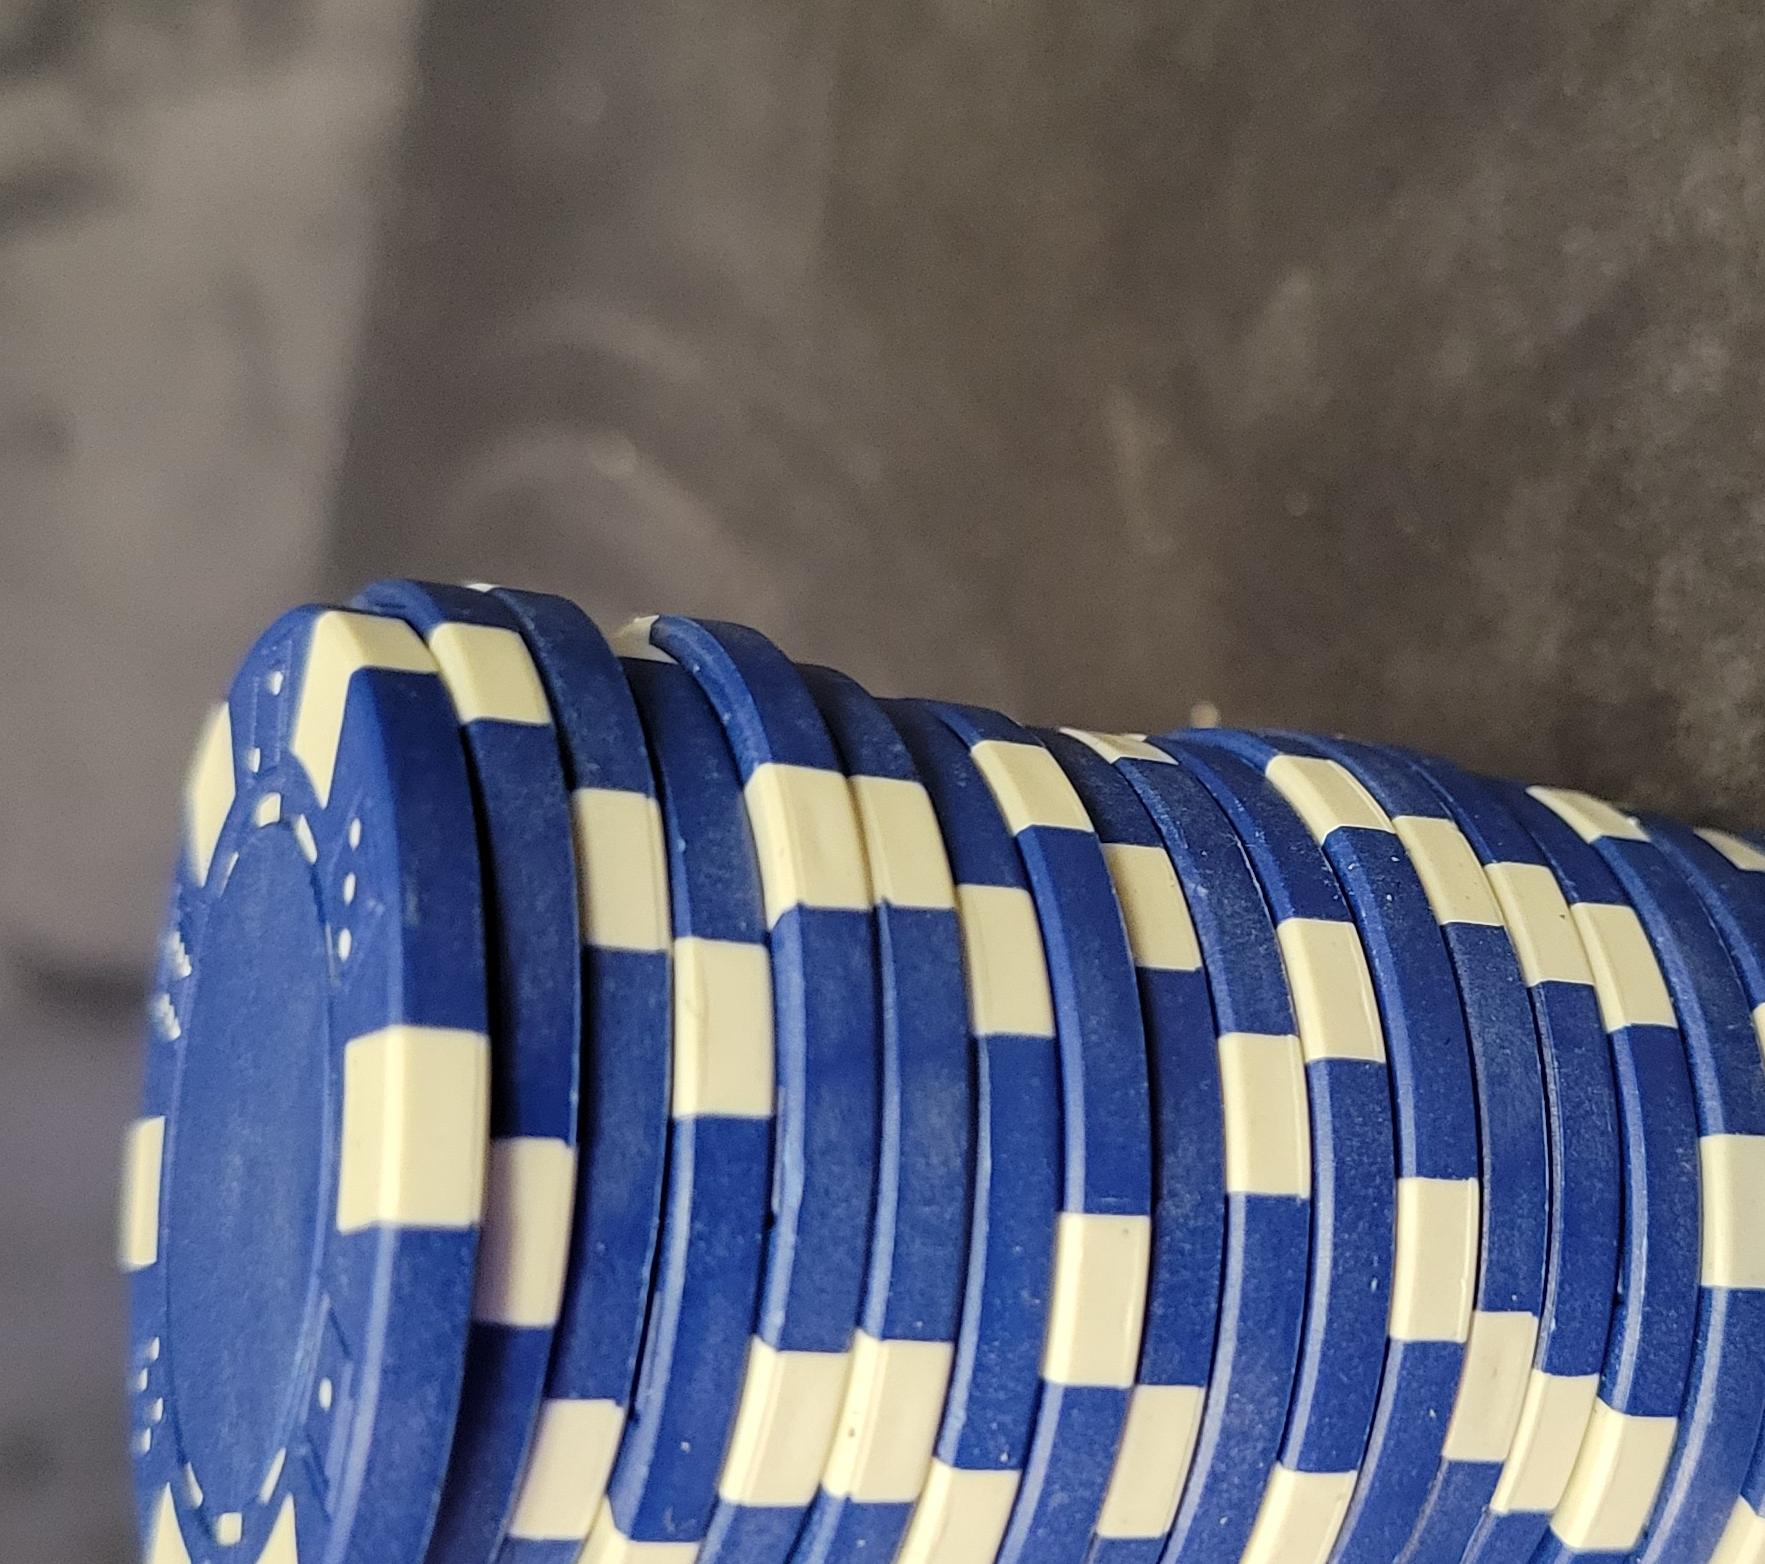Chip: (2, 202, 1132, 1564)
